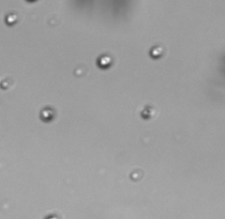Dead Cell: (140, 103, 155, 119), (1, 76, 11, 89)
Living Cell: (97, 52, 112, 68), (39, 108, 55, 121), (152, 44, 164, 59), (4, 13, 18, 24)
